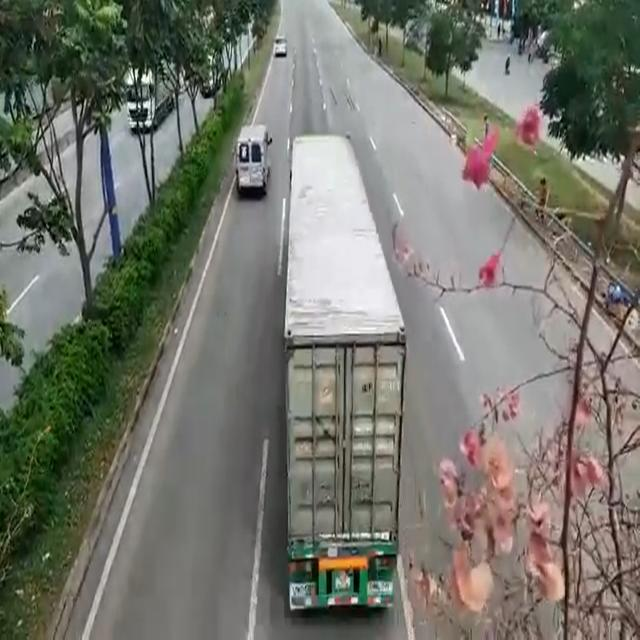car: (232, 121, 268, 203)
truck: (288, 127, 392, 608)
